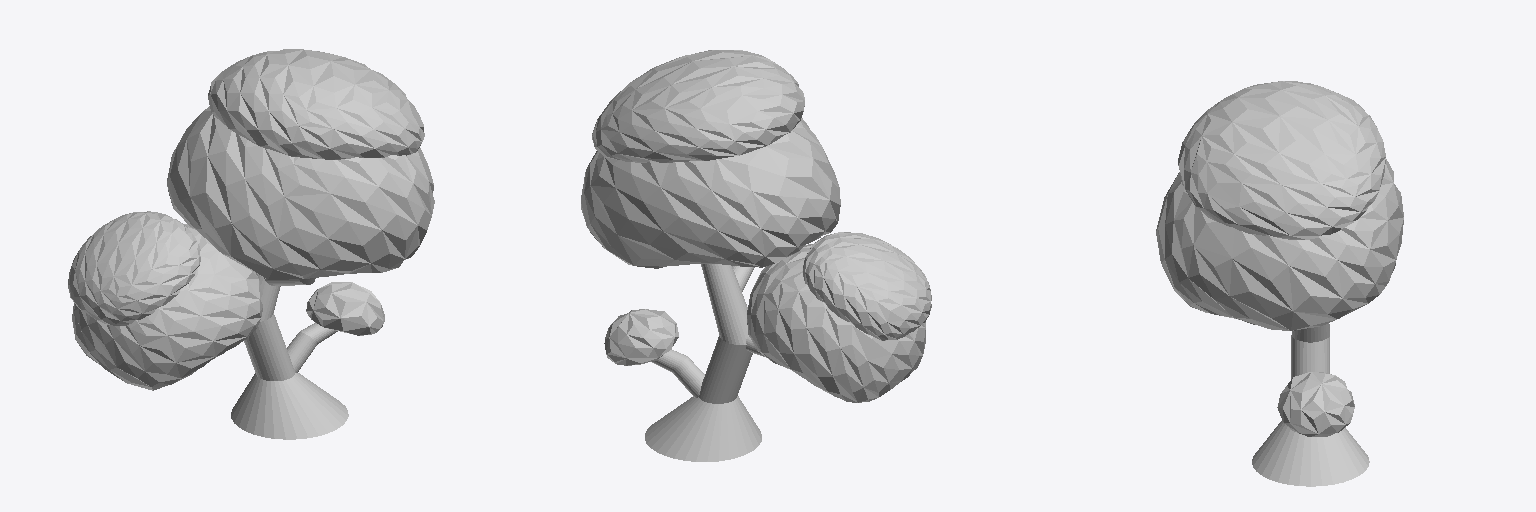
File: tree8.obj
3 views of the same model, side by side, from view 1: azimuth 30°, elevation 25°; view 2: azimuth 150°, elevation 25°; view 3: azimuth 270°, elevation 25° (orthographic).
Parts seen in each view (by area): view 1: tree8; view 2: tree8; view 3: tree8.
Part boxes in pixels (bbox=[...]): tree8: bbox=[68, 49, 434, 439]; tree8: bbox=[581, 50, 931, 461]; tree8: bbox=[1156, 81, 1403, 486].
Size of the model in its own units: 6.12 by 6.44 by 3.98.